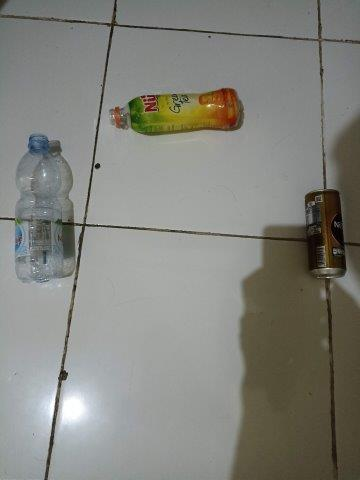botolplastik: (15, 133, 64, 283), (110, 88, 239, 133)
kaleng: (304, 188, 347, 281)
